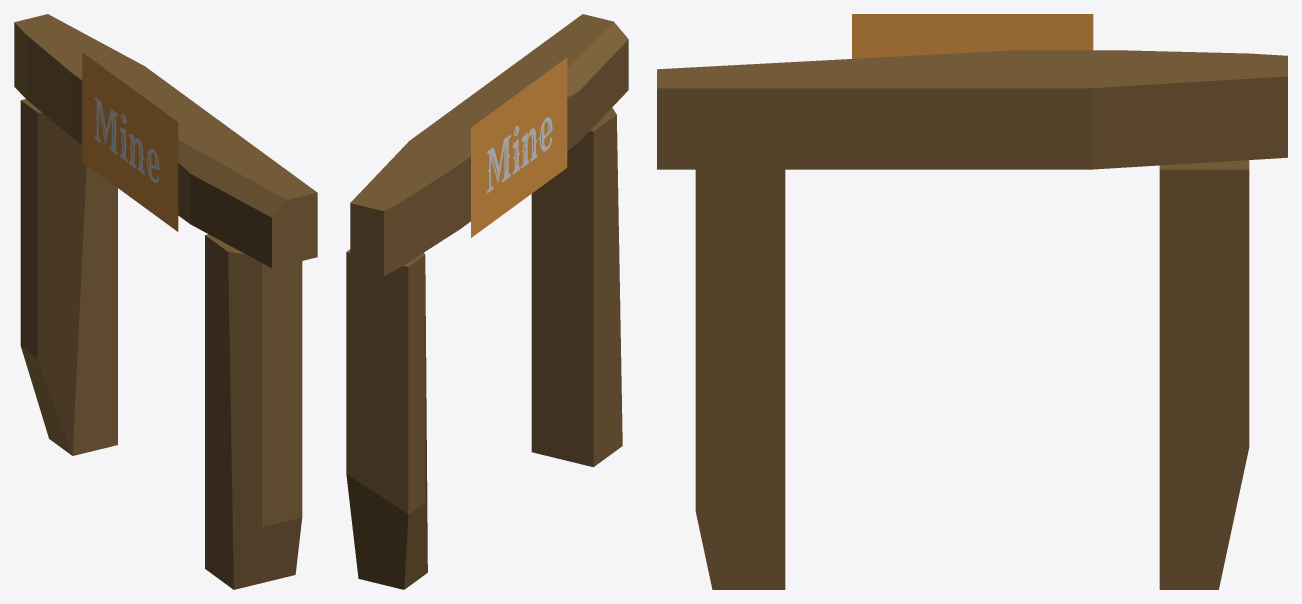
Rendered from MineEntrance.fbx.
3 views of the same model, side by side, from view 1: azimuth 30°, elevation 25°; view 2: azimuth 150°, elevation 25°; view 3: azimuth 270°, elevation 25° (orthographic). The views are drawn at different scales.
Parts seen in each view (by area): view 1: Cube, Cube.001, Cube.002, Plane, Text; view 2: Cube, Cube.001, Cube.002, Plane, Text; view 3: Cube.002, Cube, Cube.001, Plane.
Boxes of the visible parts, <box> form: Cube: <box>205,234,302,589</box>; Cube.001: <box>20,99,117,455</box>; Cube.002: <box>14,14,317,268</box>; Plane: <box>82,52,178,231</box>; Text: <box>94,97,159,182</box>; Cube: <box>531,107,622,467</box>; Cube.001: <box>346,249,427,589</box>; Cube.002: <box>350,14,628,275</box>; Plane: <box>471,57,567,237</box>; Text: <box>487,117,552,193</box>; Cube.002: <box>657,50,1287,169</box>; Cube: <box>695,169,785,589</box>; Cube.001: <box>1159,160,1249,589</box>; Plane: <box>852,14,1093,58</box>.
Size of the model in its own units: 40.1 by 256 by 272.
